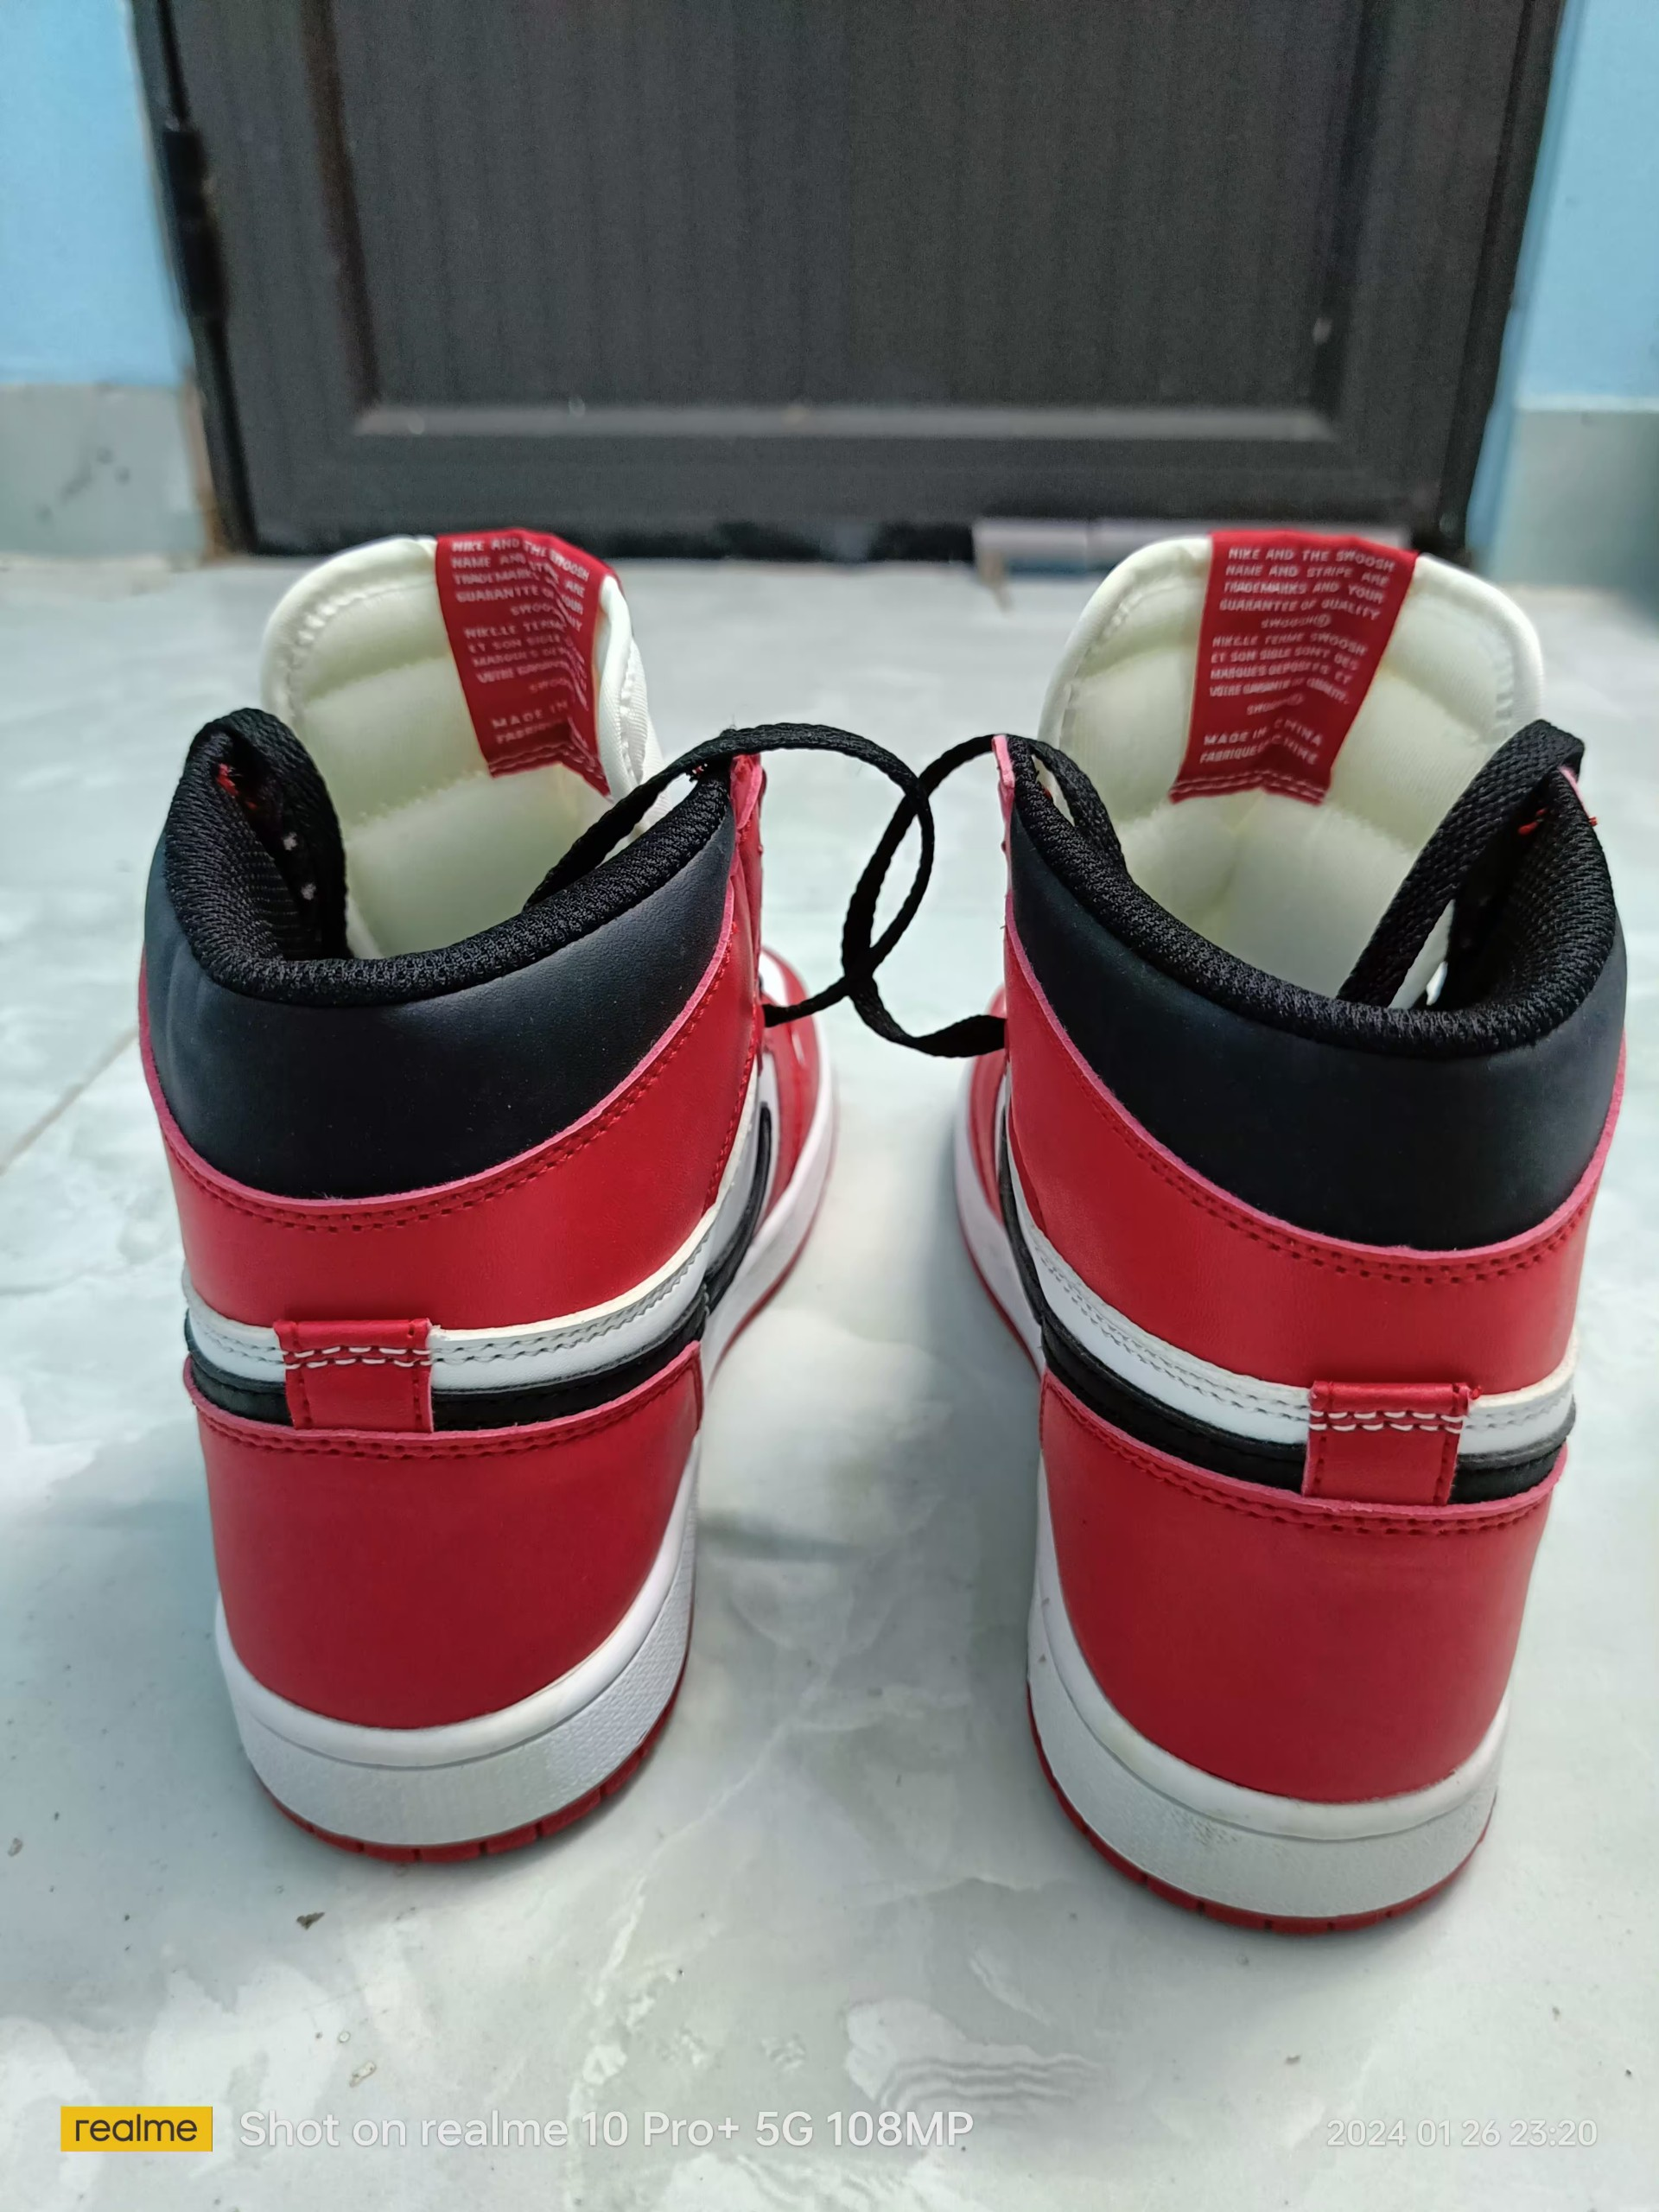sneakers: (938, 524, 1631, 1946), (131, 529, 840, 1881)
